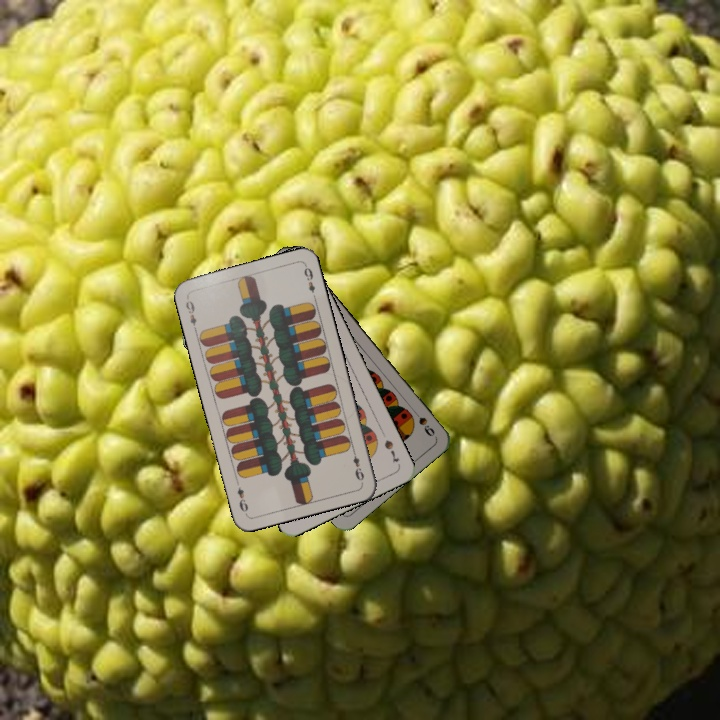E9: (348, 445, 367, 483), (181, 294, 199, 334)
S7: (380, 436, 402, 466)
S9: (409, 405, 437, 439)
